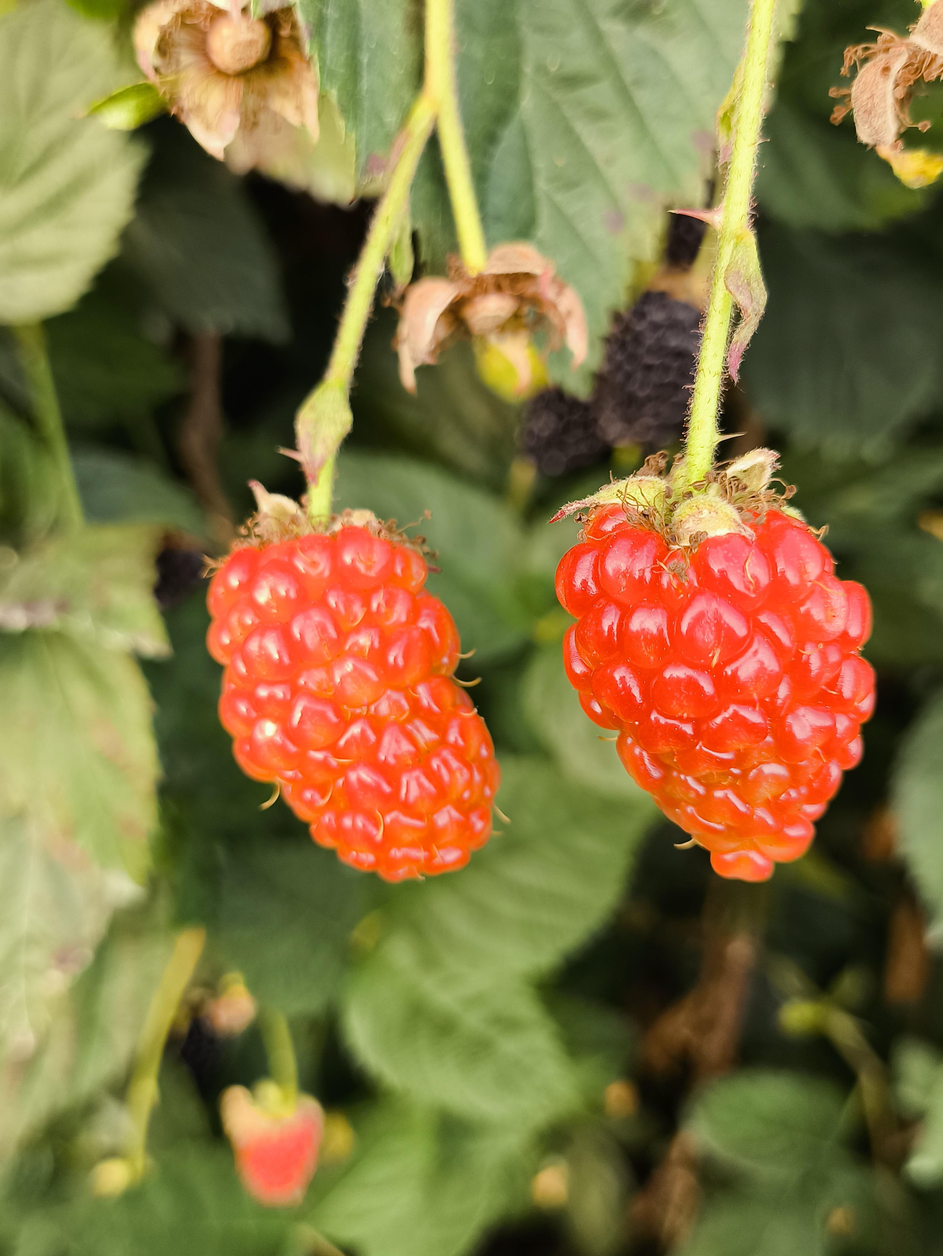naranja: (556, 463, 874, 881), (207, 506, 500, 882)
